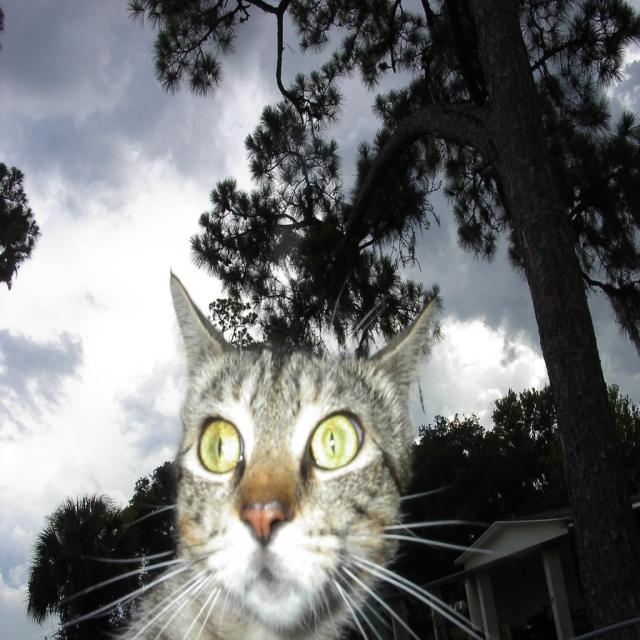Cat: (30, 267, 501, 638)
